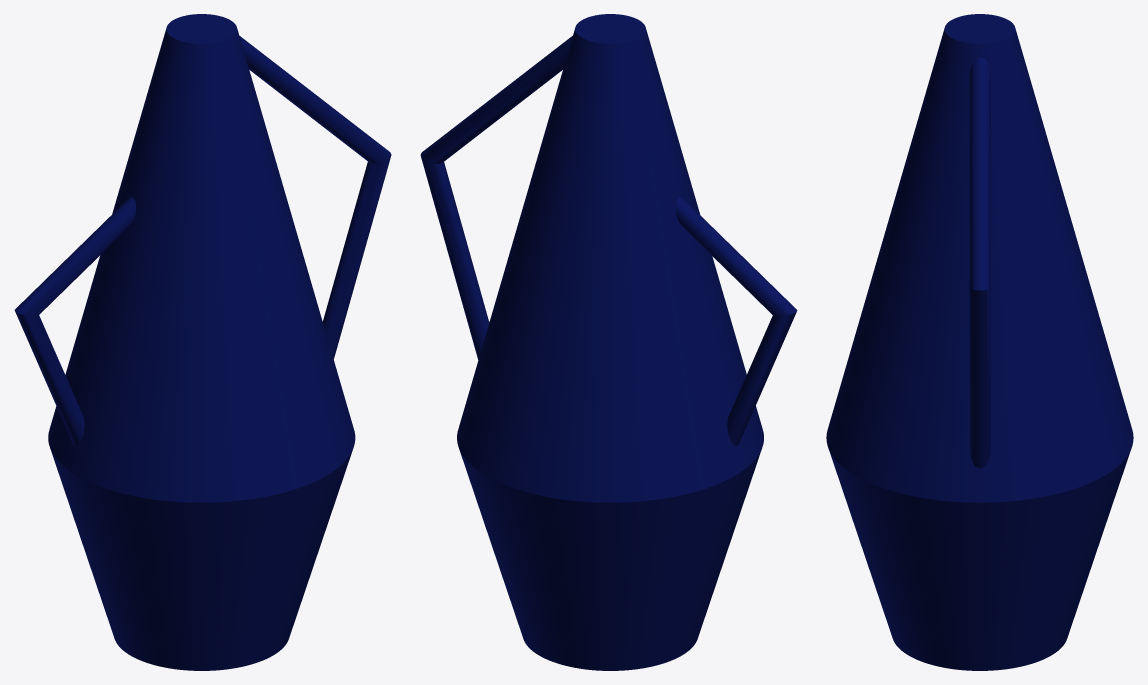
The model's file is room_test_SM_Vase.FBX.
3 renders of one model, left to right at view 1: azimuth 30°, elevation 25°; view 2: azimuth 150°, elevation 25°; view 3: azimuth 270°, elevation 25°, orthographic.
Parts seen in each view (by area): view 1: room_test_SM_Vase; view 2: room_test_SM_Vase; view 3: room_test_SM_Vase.
Part boxes in pixels (x1,y1,x2,y2): room_test_SM_Vase: (14, 14, 391, 670); room_test_SM_Vase: (420, 14, 797, 670); room_test_SM_Vase: (826, 14, 1133, 670).
Size of the model in its own units: 35.03 by 24.87 by 54.03.
